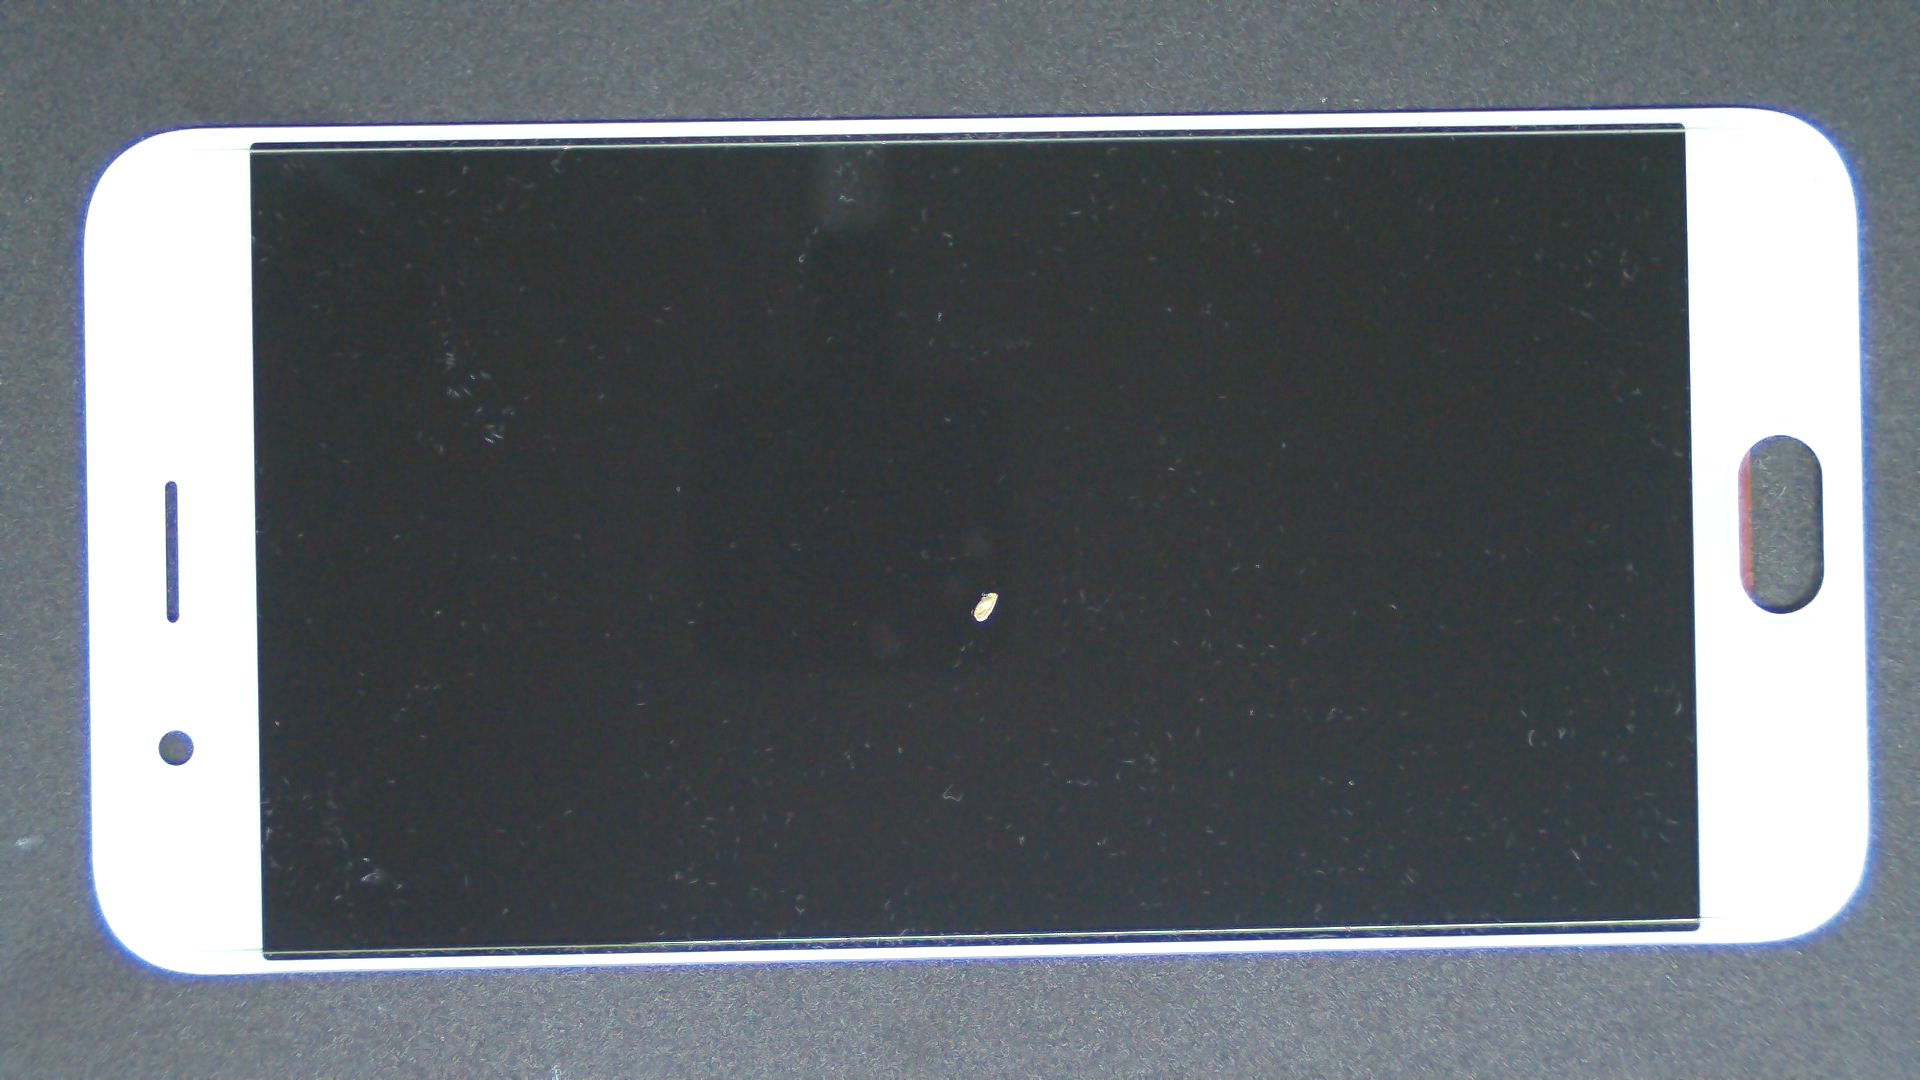oil: (495, 295, 1484, 887)
